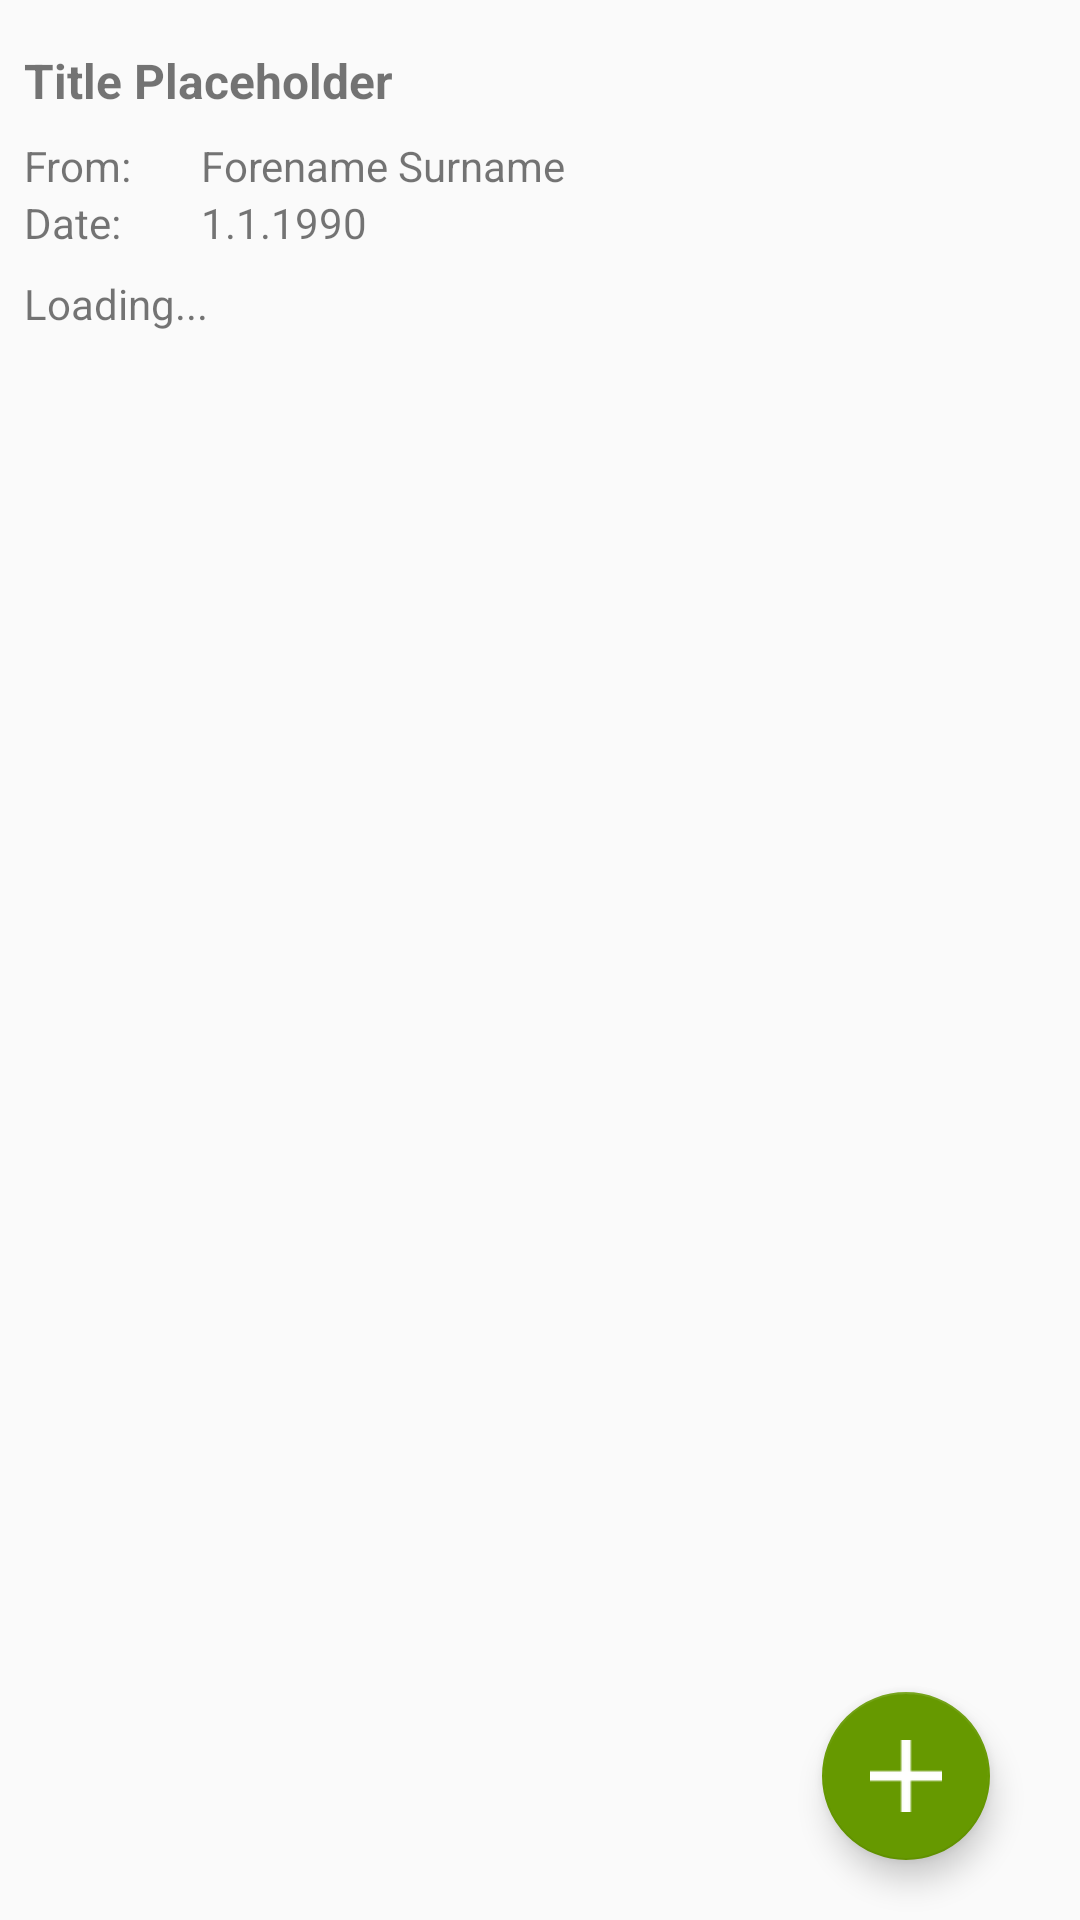

Named icons in this screenshot (1080×1920) and their bounding boxes, Rect(x1, y1, x2, y2):
add article: Rect(822, 1692, 990, 1860)
